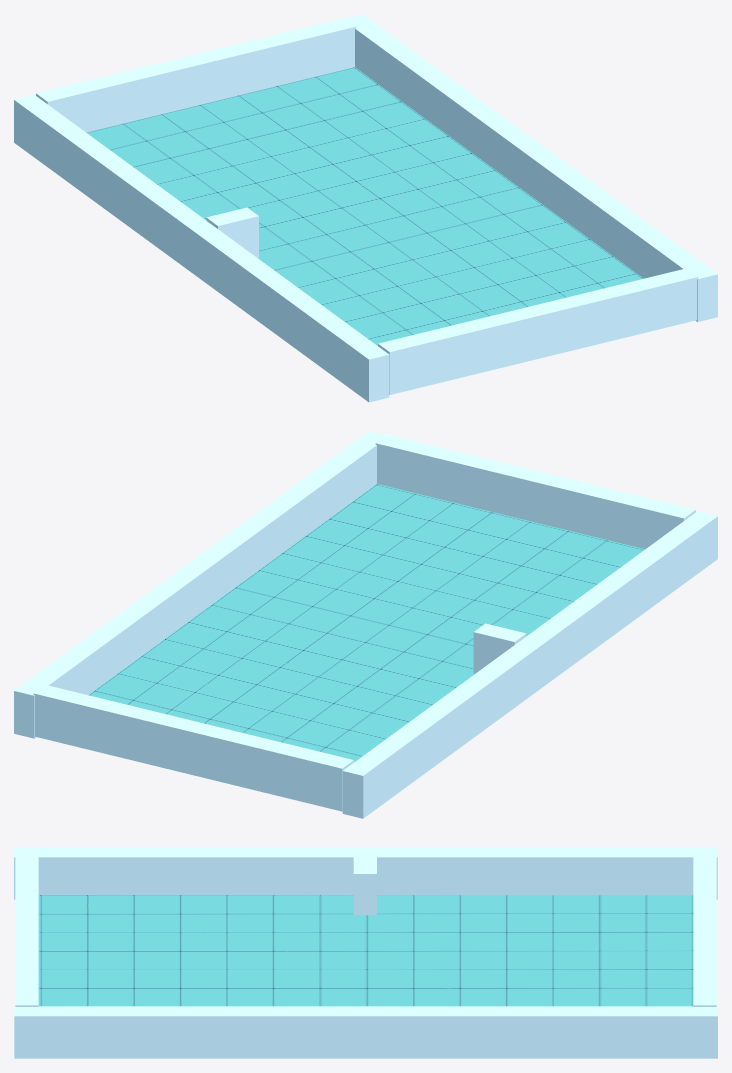
The model's file is Stage.fbx.
3 views of the same model, one above another, from view 1: azimuth 30°, elevation 25°; view 2: azimuth 150°, elevation 25°; view 3: azimuth 270°, elevation 25° (orthographic).
Parts seen in each view (by area): view 1: Ground, West wall, East wall, South wall, North wall, Sectioners; view 2: Ground, West wall, East wall, North wall, South wall, Sectioners; view 3: Ground, East wall, West wall, North wall, South wall, Sectioners.
Boxes of the visible parts, x1,y1,x2,y2 form: Ground: (86,67,643,345); West wall: (14,95,389,402); East wall: (346,14,717,321); South wall: (378,268,698,394); North wall: (36,18,356,132); Sectioners: (206,207,258,257); Ground: (88,484,644,762); West wall: (342,511,717,818); East wall: (14,431,385,738); North wall: (33,685,353,811); South wall: (375,434,695,549); Sectioners: (473,623,526,673); Ground: (38,895,693,1006); East wall: (14,1006,717,1058); West wall: (14,847,717,899); North wall: (693,856,716,1006); South wall: (15,856,38,1006); Sectioners: (353,854,376,915).
Size of the model in its own units: 261 by 32.86 by 459.
